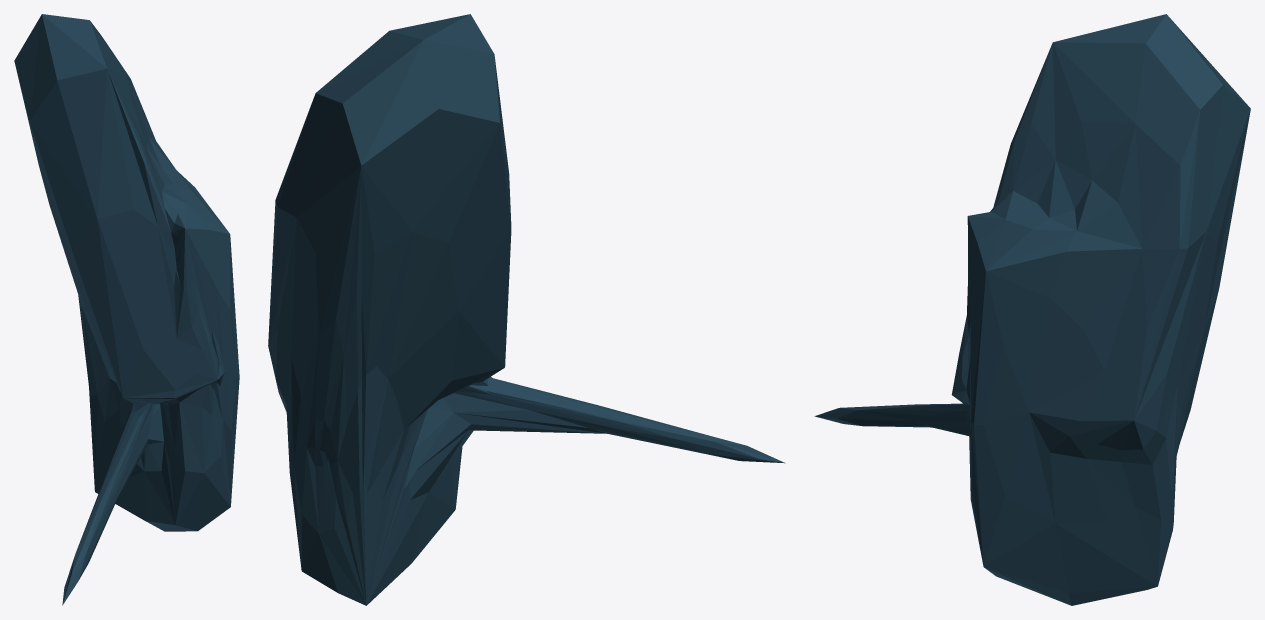
3 views of the same model, side by side, from view 1: azimuth 30°, elevation 25°; view 2: azimuth 150°, elevation 25°; view 3: azimuth 270°, elevation 25° (orthographic). The views are drawn at different scales.
Visible parts, largest first — view 1: 558_Cube.2250; view 2: 558_Cube.2250; view 3: 558_Cube.2250.
Boxes of the visible parts, x1,y1,x2,y2 form: 558_Cube.2250: (14,14,239,605); 558_Cube.2250: (268,14,785,605); 558_Cube.2250: (814,14,1250,605).
Bounding box in the file's own units: 10.1 × 17 × 12.24.
